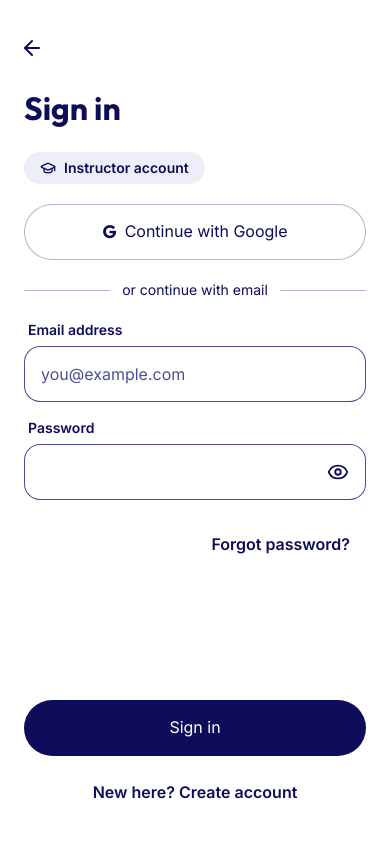
sign in with an unregistered account › shows the pop-up when Google reports an unregistered account
Click the button "G Continue with Google". click: (195, 232)
box: [24,204,366,260]
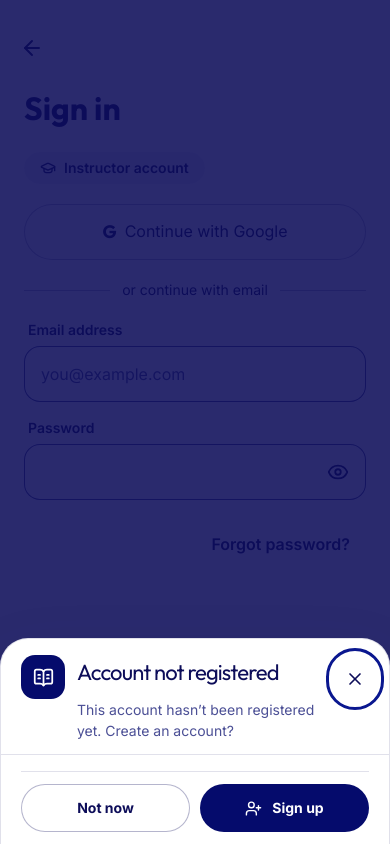
Check: the dialog "Account not registered" is shown, box [0,638,389,843]
